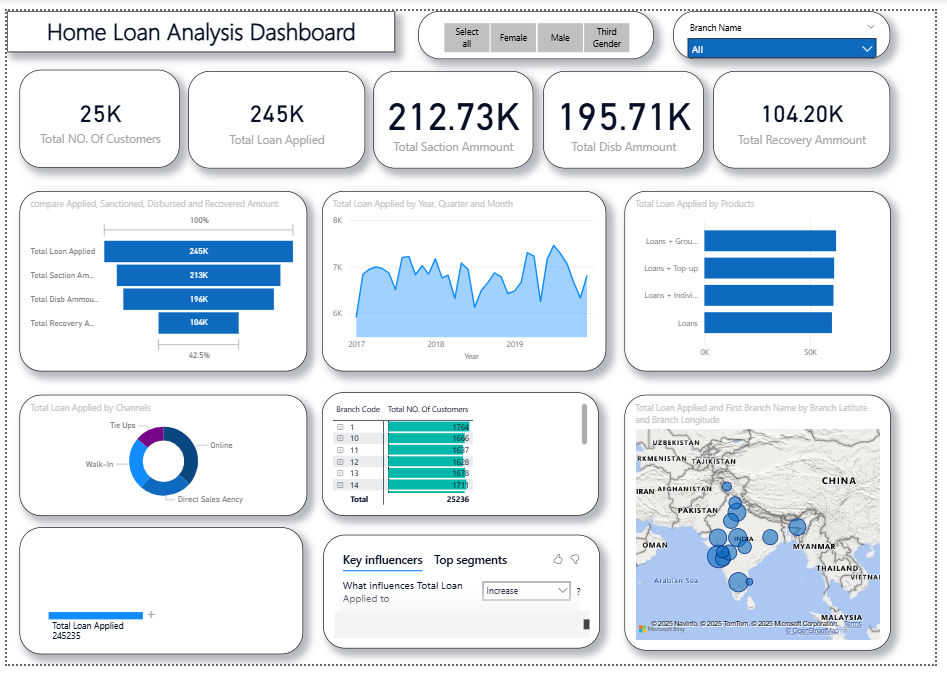

Layout of this report page (visuals, bound fields, positions):
{"tool":"powerbi","page":{"name":"Page 2","canvas":[1280,900],"ordinal":1},"visuals":[{"type":"textbox","box":[0,0,534.9,57],"z":0},{"type":"card","fields":{"Values":["Customer.Total NO. Of Customers"]},"box":[17.4,80.2,220.9,134.9],"z":1000},{"type":"card","fields":{"Values":["Sanction Data.Total Disb Ammount"]},"box":[740.2,82.2,221.7,134.7],"z":2000},{"type":"card","fields":{"Values":["Sanction Data.Total Saction Ammount"]},"box":[505.4,82.2,220.5,134.7],"z":3000},{"type":"card","fields":{"Values":["Sanction Data.Total Loan Applied"]},"box":[250.3,82.2,244.4,134.7],"z":4000},{"type":"card","fields":{"Values":["Recovery Data.Total Recovery Ammount"]},"box":[973.9,82.2,244.4,134.7],"z":5000},{"type":"funnel","title":"compare Applied, Sanctioned, Disbursed and Recovered Amount","fields":{"Y":["Sanction Data.Total Loan Applied","Sanction Data.Total Saction Ammount","Sanction Data.Total Disb Ammount","Recovery Data.Total Recovery Ammount"]},"box":[17.9,247.9,396.9,249.1],"z":6000},{"type":"areaChart","fields":{"Category":["Sanction Data.Month Year.Variation.Date Hierarchy.Year","Sanction Data.Month Year.Variation.Date Hierarchy.Quarter","Sanction Data.Month Year.Variation.Date Hierarchy.Month","Sanction Data.Month Year.Variation.Date Hierarchy.Day"],"Y":["Sanction Data.Total Loan Applied"]},"box":[433.9,247.9,392.2,249.1],"z":7000},{"type":"clusteredBarChart","fields":{"Category":["Product.Products"],"Y":["Sanction Data.Total Loan Applied"]},"box":[851.1,247.9,367.1,249.1],"z":8000},{"type":"donutChart","fields":{"Category":["Channel.Channels"],"Y":["Sanction Data.Total Loan Applied"]},"box":[17.9,529.3,396.9,166.9],"z":9000},{"type":"map","fields":{"X":["Branch.Branch Longitude"],"Y":["Branch.Branch Latitute"],"Size":["Sanction Data.Total Loan Applied"]},"box":[851.1,529.3,367.1,352.8],"z":10000},{"type":"keyDriversVisual","fields":{"Target":["Sanction Data.Total Loan Applied"],"ExplainBy":["Customer.Age","Customer.Gender","Customer.Occupation","Customer.Salary"]},"box":[436.1,722.2,381.9,156.9],"z":11000},{"type":"decompositionTreeVisual","fields":{"Analyze":["Sanction Data.Total Loan Applied"],"ExplainBy":["Customer.Age","Customer.Gender","Customer.Occupation","Customer.Salary"]},"box":[17.9,712.8,391,175.2],"z":12000},{"type":"pivotTable","fields":{"Rows":["Branch.Branch Code","Branch.Branch Latitute","Branch.Branch Longitude","Branch.Branch Pincode","Branch.Branch Name","Customer.Customer Number","Customer.Applied Loan Amount in Lacs","Customer.Month Year","Customer.Channel Id","Customer.Product Id","Customer.Gender","Customer.Occupation"],"Values":["Customer.Total NO. Of Customers"]},"box":[433.9,525.7,381.4,170.5],"z":13000},{"type":"slicer","fields":{"Values":["Customer.Gender"]},"box":[568.1,0,325,66.4],"z":14000},{"type":"slicer","fields":{"Values":["Branch.Branch Name"]},"box":[918.5,0,299.6,66.4],"z":15000}]}

Visuals, with their boxes in screenshot pixels (x1, y1, x2, y2), scaled from the page's 1280x900 canvas onto the 947x675 screenshot:
textbox: {"left": 0, "top": 0, "right": 396, "bottom": 43}
card - Customer.Total NO. Of Customers: {"left": 13, "top": 60, "right": 176, "bottom": 161}
card - Sanction Data.Total Disb Ammount: {"left": 548, "top": 62, "right": 712, "bottom": 163}
card - Sanction Data.Total Saction Ammount: {"left": 374, "top": 62, "right": 537, "bottom": 163}
card - Sanction Data.Total Loan Applied: {"left": 185, "top": 62, "right": 366, "bottom": 163}
card - Recovery Data.Total Recovery Ammount: {"left": 721, "top": 62, "right": 901, "bottom": 163}
"compare Applied, Sanctioned, Disbursed and Recovered Amount" funnel: {"left": 13, "top": 186, "right": 307, "bottom": 373}
areaChart - Sanction Data.Month Year.Variation.Date Hierarchy.Year x Sanction Data.Month Year.Variation.Date Hierarchy.Quarter: {"left": 321, "top": 186, "right": 611, "bottom": 373}
clusteredBarChart - Product.Products x Sanction Data.Total Loan Applied: {"left": 630, "top": 186, "right": 901, "bottom": 373}
donutChart - Channel.Channels x Sanction Data.Total Loan Applied: {"left": 13, "top": 397, "right": 307, "bottom": 522}
map - Branch.Branch Longitude x Branch.Branch Latitute: {"left": 630, "top": 397, "right": 901, "bottom": 662}
keyDriversVisual - Sanction Data.Total Loan Applied x Customer.Age: {"left": 323, "top": 542, "right": 605, "bottom": 659}
decompositionTreeVisual - Sanction Data.Total Loan Applied x Customer.Age: {"left": 13, "top": 535, "right": 303, "bottom": 666}
pivotTable - Branch.Branch Code x Branch.Branch Latitute: {"left": 321, "top": 394, "right": 603, "bottom": 522}
slicer - Customer.Gender: {"left": 420, "top": 0, "right": 661, "bottom": 50}
slicer - Branch.Branch Name: {"left": 680, "top": 0, "right": 901, "bottom": 50}
